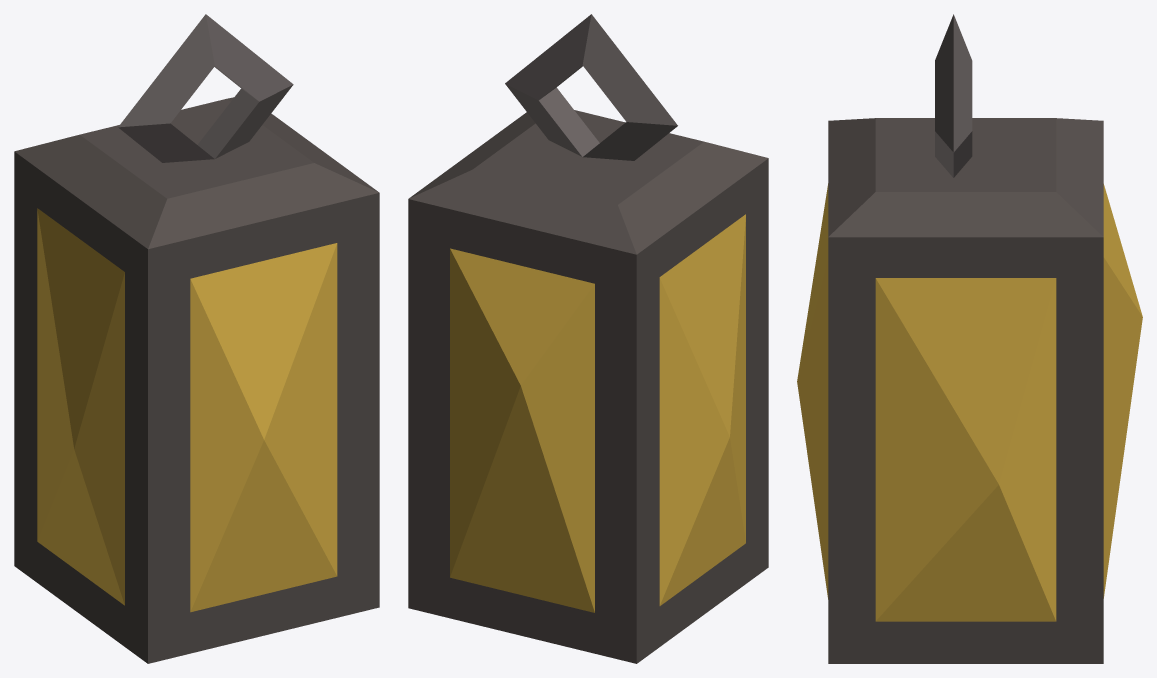
Rendered from lantern.fbx.
3 renders of one model, left to right at view 1: azimuth 30°, elevation 25°; view 2: azimuth 150°, elevation 25°; view 3: azimuth 270°, elevation 25°, orthographic. The views are drawn at different scales.
Parts seen in each view (by area): view 1: lantern; view 2: lantern; view 3: lantern.
Part boxes in pixels (x1,y1,x2,y2): lantern: (14,14,379,663); lantern: (408,14,768,663); lantern: (797,14,1142,663).
Bounding box in the file's own units: 1.12 × 2.25 × 1.19.
